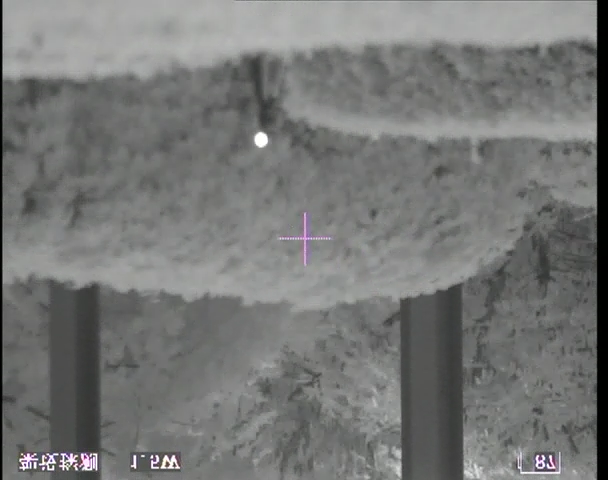my: (253, 131, 269, 149)
